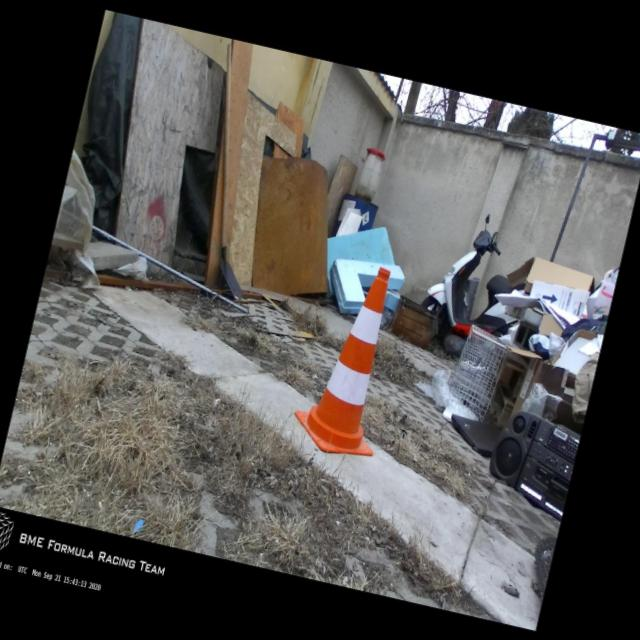large_orange_cone: (287, 255, 413, 462)
